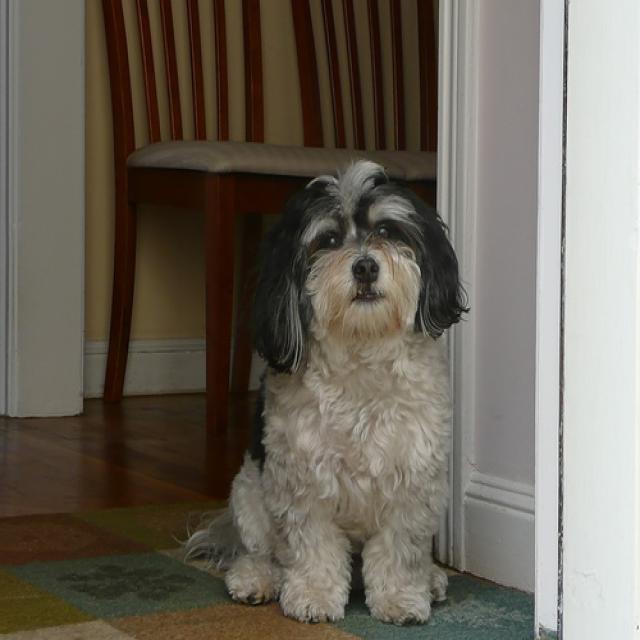dog-havanese: (214, 154, 470, 631)
